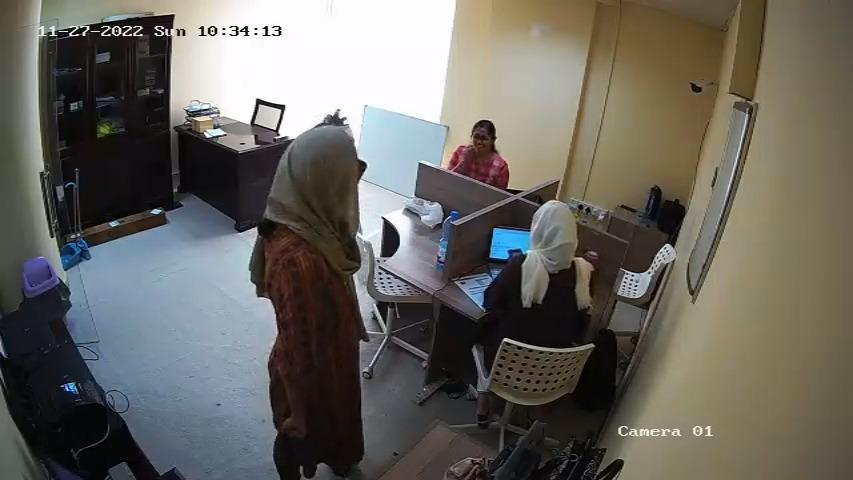no_apron: (302, 245, 363, 403)
